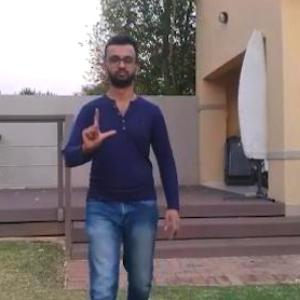land_hand: (78, 97, 124, 156)
